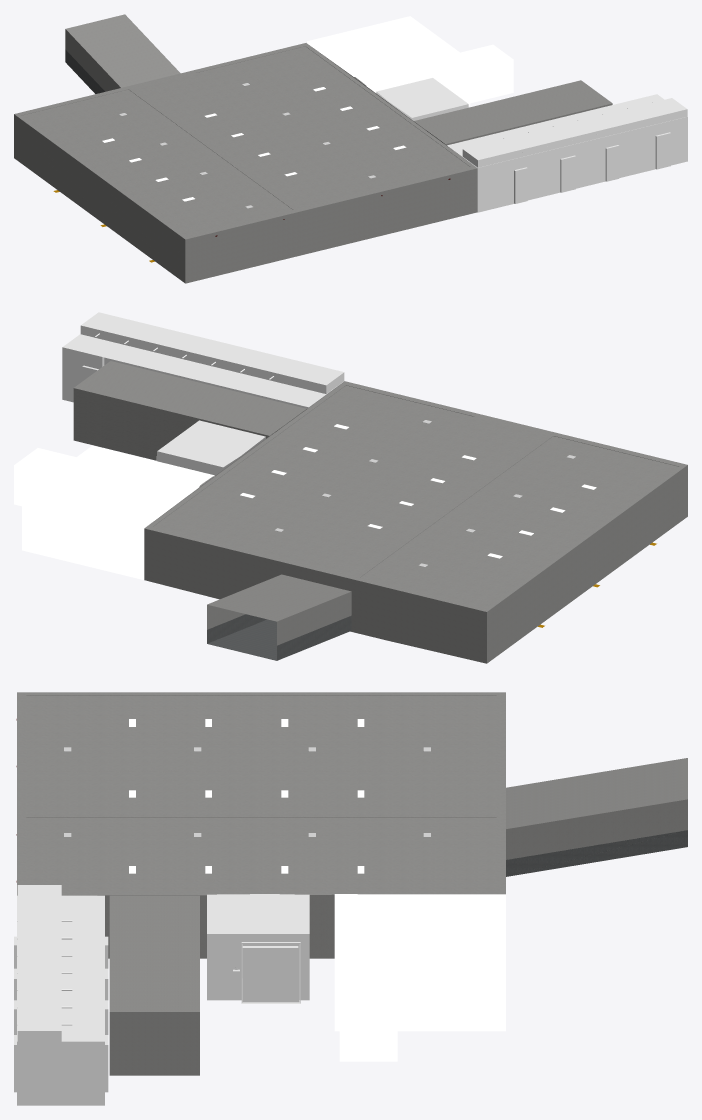
The model's file is basement_garage.glb.
3 renders of one model, top to bottom at view 1: azimuth 30°, elevation 25°; view 2: azimuth 150°, elevation 25°; view 3: azimuth 270°, elevation 25°, orthographic. The views are drawn at different scales.
Visible parts, largest first — view 1: garage_part_7, garage_part_0, garage_part_32, garage_part_21, garage_part_28, garage_part_22, garage_part_51; view 2: garage_part_7, garage_part_0, garage_part_21, garage_part_32, garage_part_28, garage_part_22, garage_part_51; view 3: garage_part_7, garage_part_21, garage_part_32, garage_part_28, garage_part_0, garage_part_22, garage_part_51, garage_part_24, garage_part_25.
Part boxes in pixels (x1=…): garage_part_7: x1=14, y1=43, x2=476, y2=239; garage_part_0: x1=14, y1=14, x2=477, y2=283; garage_part_32: x1=447, y1=94, x2=687, y2=212; garage_part_21: x1=307, y1=16, x2=513, y2=104; garage_part_28: x1=414, y1=80, x2=612, y2=145; garage_part_22: x1=376, y1=78, x2=468, y2=120; garage_part_51: x1=65, y1=49, x2=104, y2=93; garage_part_7: x1=144, y1=381, x2=687, y2=611; garage_part_0: x1=144, y1=397, x2=687, y2=663; garage_part_21: x1=14, y1=445, x2=214, y2=578; garage_part_32: x1=62, y1=312, x2=344, y2=408; garage_part_28: x1=73, y1=361, x2=306, y2=460; garage_part_22: x1=157, y1=420, x2=265, y2=475; garage_part_51: x1=207, y1=614, x2=351, y2=660; garage_part_7: x1=17, y1=692, x2=505, y2=895; garage_part_21: x1=334, y1=894, x2=505, y2=1059; garage_part_32: x1=14, y1=885, x2=108, y2=1105; garage_part_28: x1=109, y1=895, x2=199, y2=1075; garage_part_0: x1=97, y1=758, x2=687, y2=958; garage_part_22: x1=207, y1=894, x2=309, y2=1003; garage_part_51: x1=506, y1=830, x2=687, y2=876; garage_part_24: x1=269, y1=948, x2=298, y2=1002; garage_part_25: x1=242, y1=948, x2=269, y2=1002.
Bounding box in the file's own units: 43.38 × 4.6 × 35.05.
Materials: 14 (5 with a texture image).
